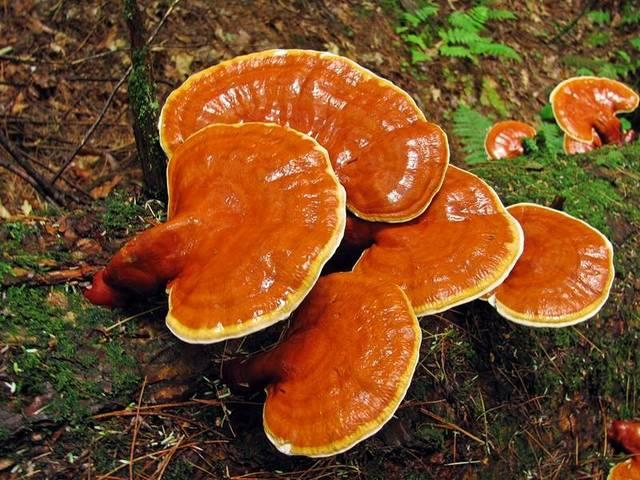poisonous_mushroom: (83, 47, 615, 458), (83, 120, 348, 344), (157, 47, 450, 223), (234, 269, 423, 458), (482, 200, 615, 328)
